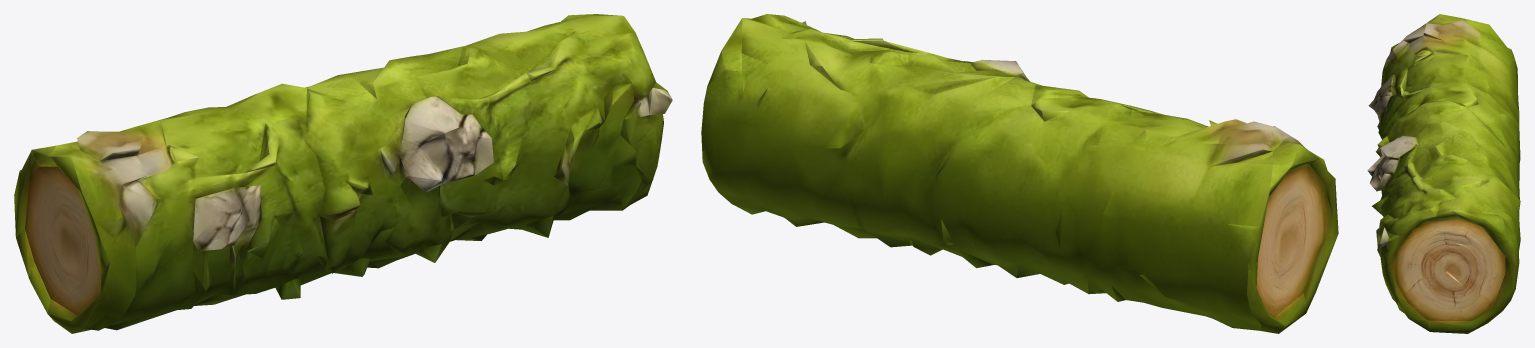
File: jungleLogSingle.glb
3 renders of one model, left to right at view 1: azimuth 30°, elevation 25°; view 2: azimuth 150°, elevation 25°; view 3: azimuth 270°, elevation 25°, orthographic. The views are drawn at different scales.
Parts seen in each view (by area): view 1: model; view 2: model; view 3: model.
Part boxes in pixels (left/top/right/bottom): model: left=14, top=14, right=672, bottom=333; model: left=701, top=14, right=1338, bottom=333; model: left=1367, top=14, right=1520, bottom=333.
Bounding box in the file's own units: 1.9 × 0.5887 × 0.6231.
Materials: 1 (1 with a texture image).
